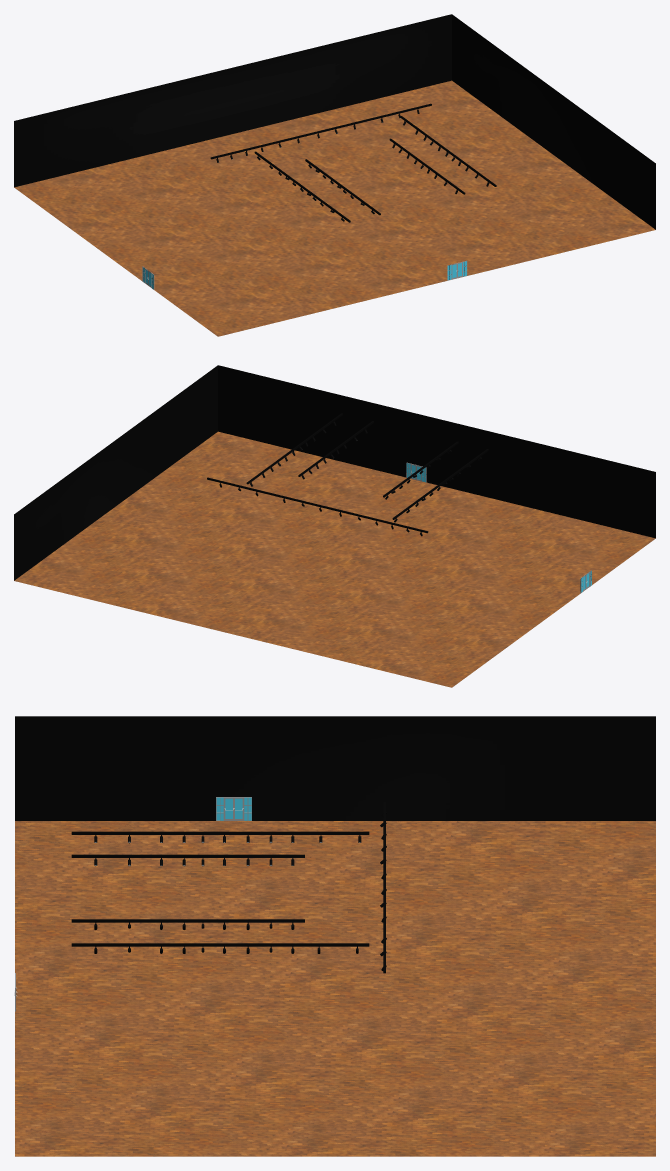
Rendered from Sala.fbx.
3 views of the same model, one above another, from view 1: azimuth 30°, elevation 25°; view 2: azimuth 150°, elevation 25°; view 3: azimuth 270°, elevation 25° (orthographic). The views are drawn at different scales.
Parts seen in each view (by area): view 1: house_house_0.001, house_house_0, spot2_spot2a_0; view 2: house_house_0.001, house_house_0, spot2_spot2a_0; view 3: house_house_0.001, house_house_0, spot2_spot2a_0, Body117_Copper - Polished_0.001.
Boxes of the visible parts, bbox=[...] form: house_house_0.001: bbox=[14, 80, 655, 336]; house_house_0: bbox=[14, 14, 655, 229]; spot2_spot2a_0: bbox=[210, 103, 496, 222]; house_house_0.001: bbox=[14, 431, 655, 687]; house_house_0: bbox=[14, 365, 655, 580]; spot2_spot2a_0: bbox=[207, 413, 488, 536]; house_house_0.001: bbox=[15, 821, 655, 1156]; house_house_0: bbox=[15, 716, 655, 820]; spot2_spot2a_0: bbox=[71, 802, 386, 973]; Body117_Copper - Polished_0.001: bbox=[216, 797, 251, 820].
Bounding box in the file's own units: 74.12 × 10.73 × 59.81.
Materials: 13 (4 with a texture image).
